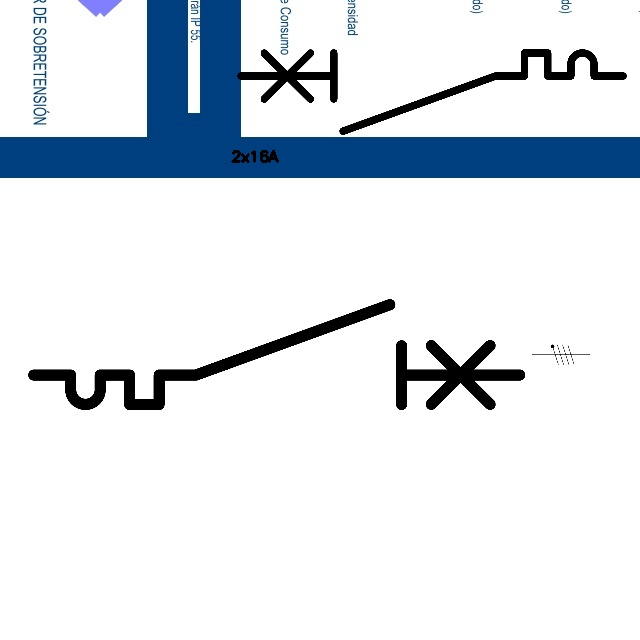interruptor_termomagnetico: (21, 292, 532, 417), (231, 43, 633, 141)
